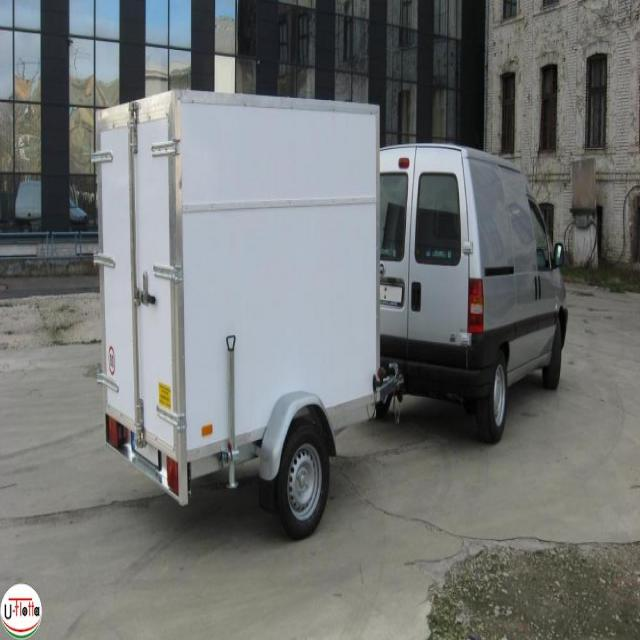trailer: (95, 88, 381, 504)
